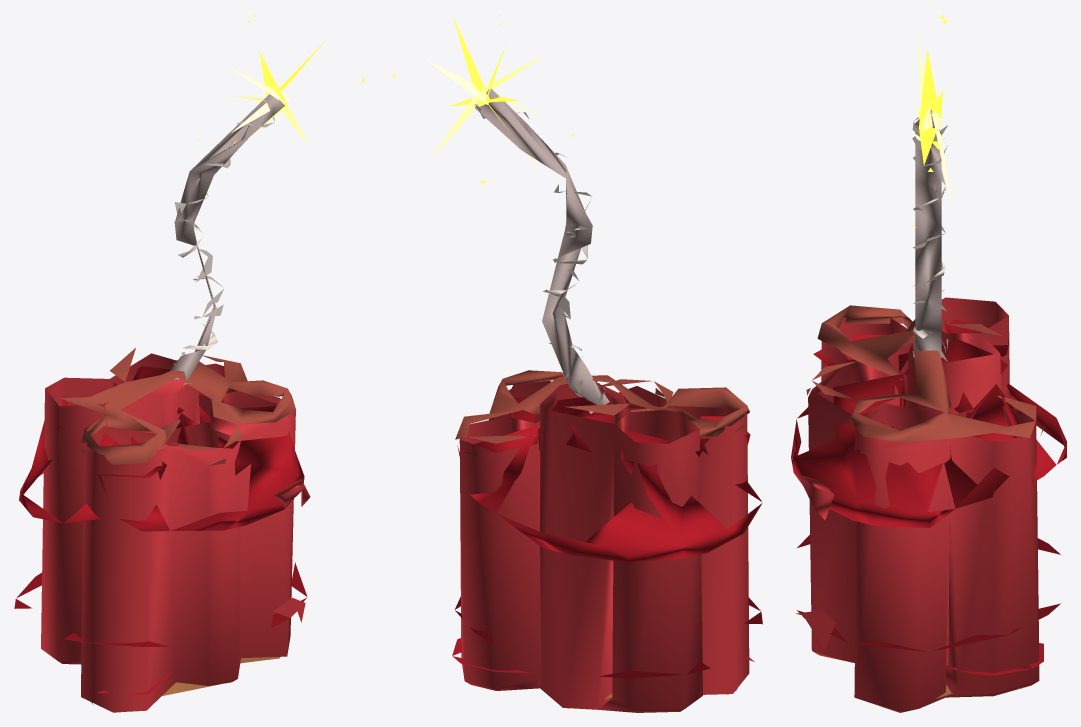
The picture shows the model from 3 angles, left to right: view 1: azimuth 30°, elevation 25°; view 2: azimuth 150°, elevation 25°; view 3: azimuth 270°, elevation 25°; orthographic projection. The views are drawn at different scales.
Size of the model in its own units: 0.2521 by 0.4515 by 0.1621.
